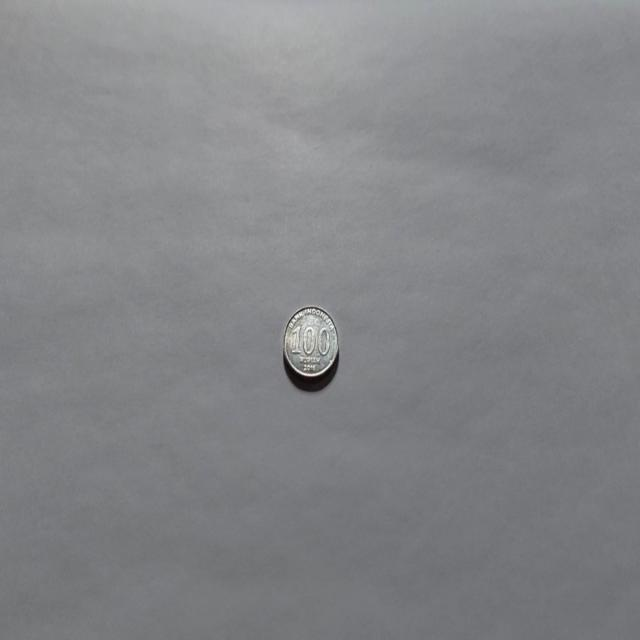seratus rupiah: (282, 303, 340, 382)
